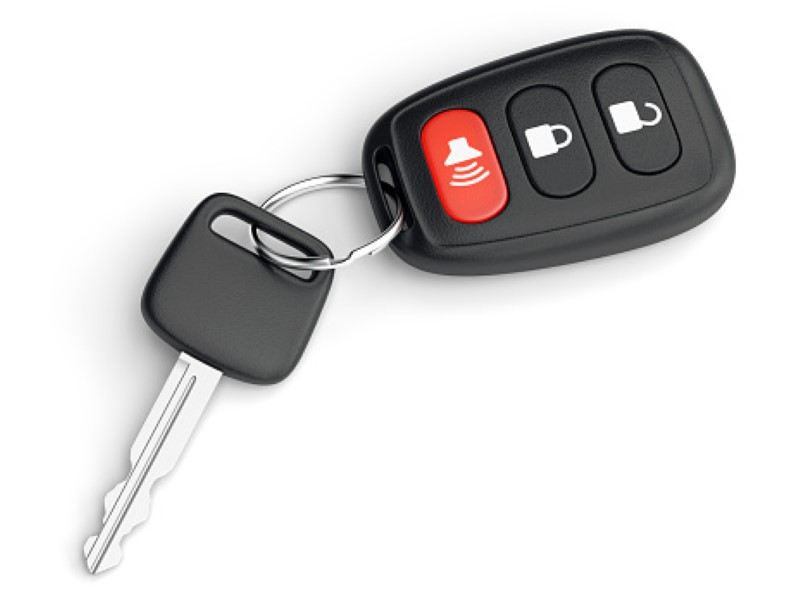carkey: (357, 5, 738, 288)
key: (75, 187, 351, 579)
